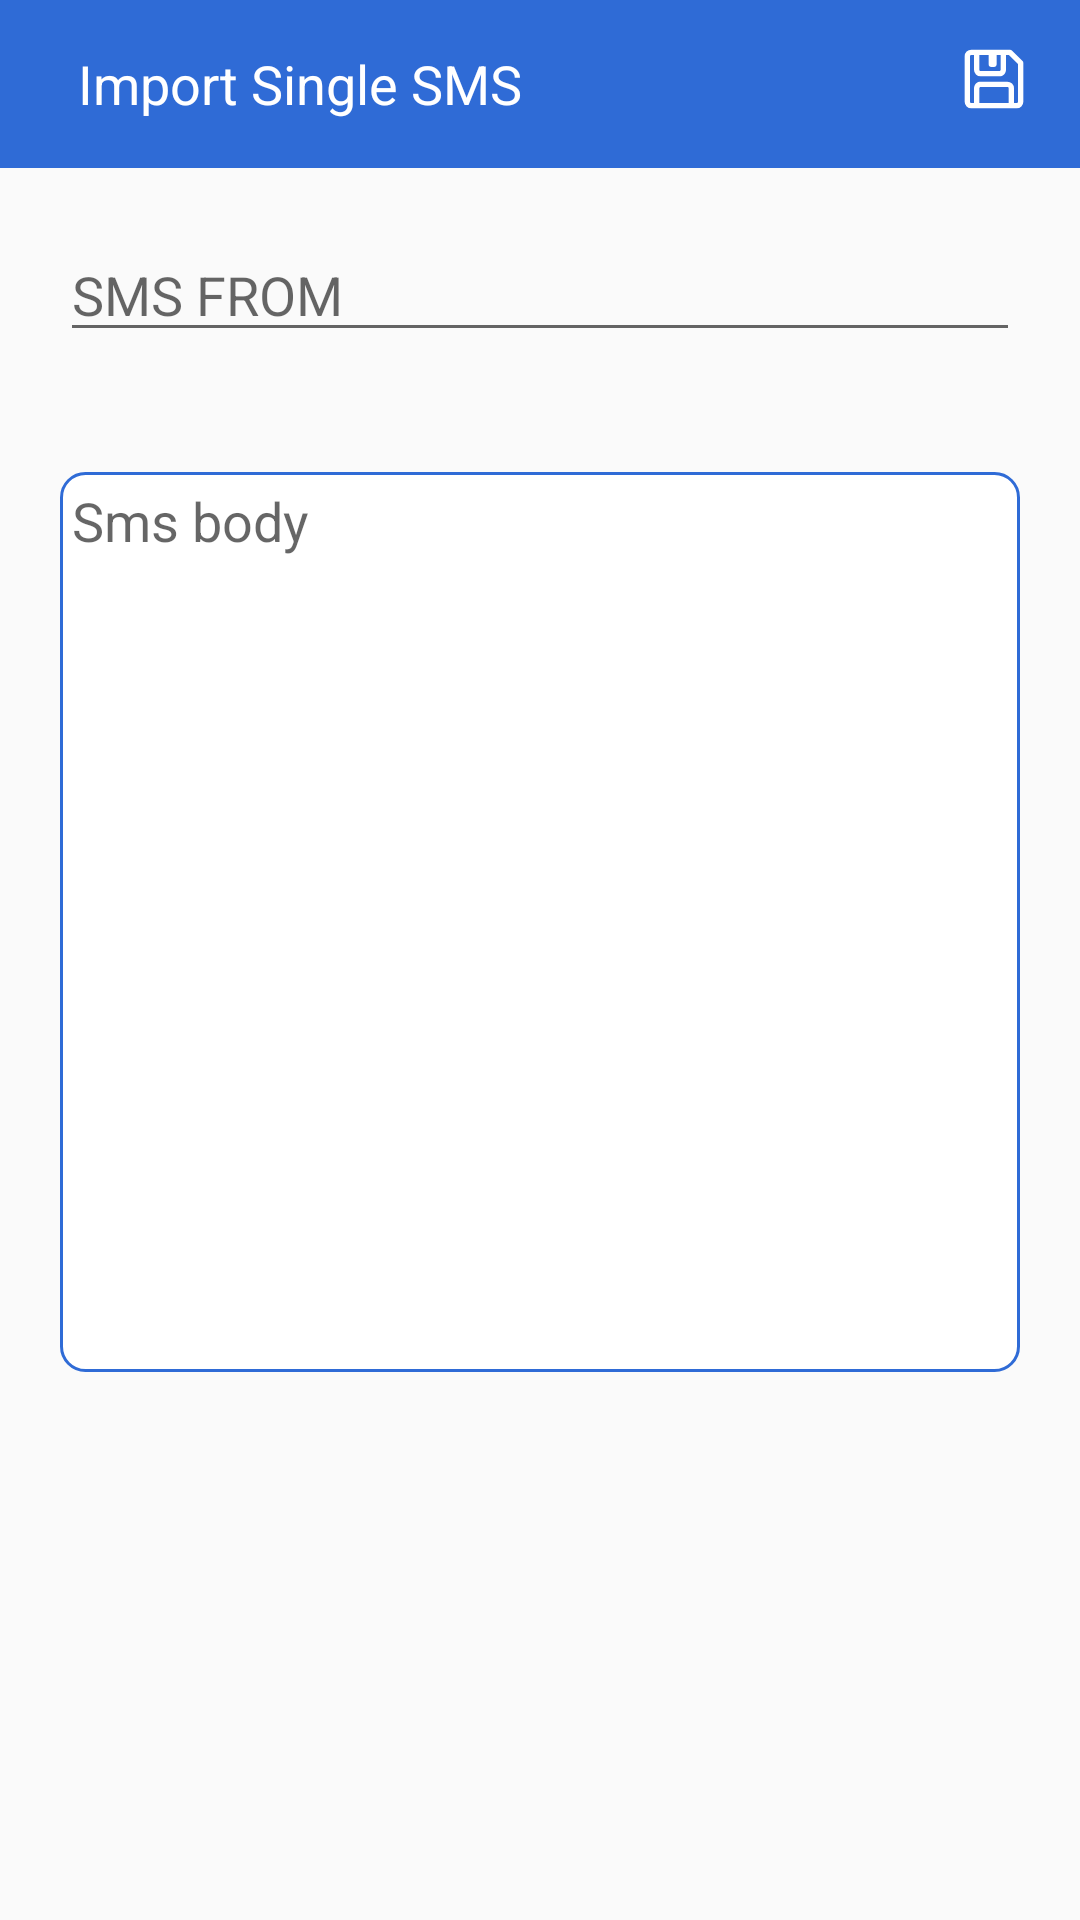

Where icons sit on this 1080 × 1920 app screen, as rect(x1, y1, x2, y2):
save: rect(964, 49, 1024, 109)
